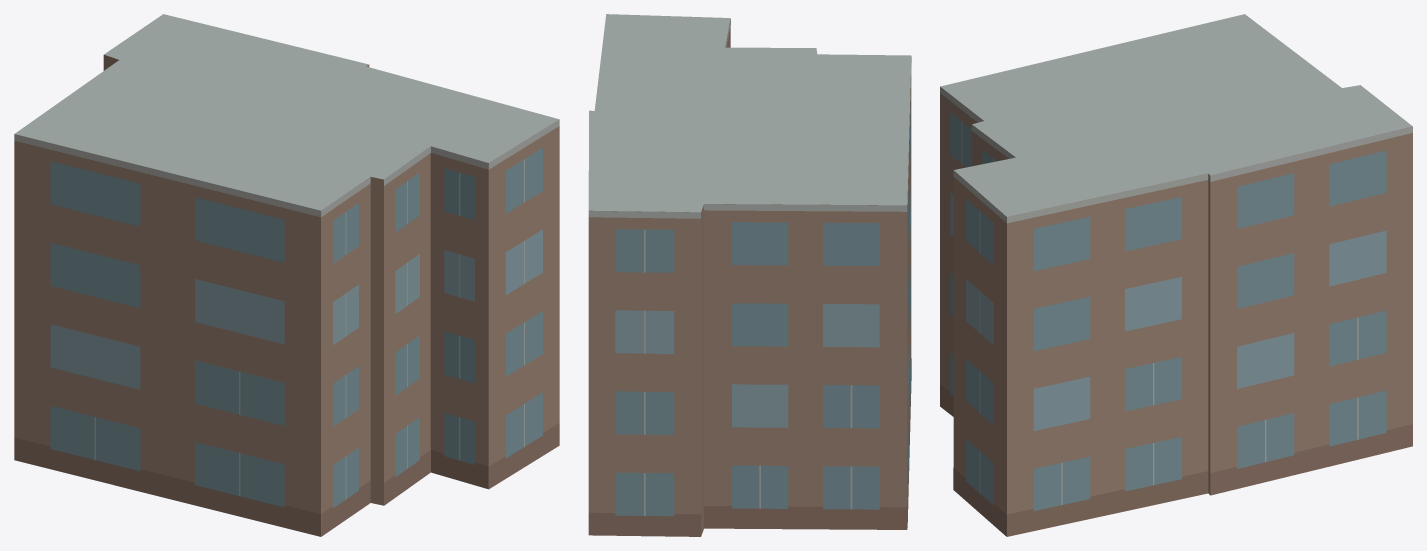
Rendered from survey-upis-33033345.glb.
The picture shows the model from 3 angles, left to right: view 1: azimuth 30°, elevation 25°; view 2: azimuth 150°, elevation 25°; view 3: azimuth 270°, elevation 25°; orthographic projection.
Visible parts, largest first — view 1: survey-upis-33033345.tmp; view 2: survey-upis-33033345.tmp; view 3: survey-upis-33033345.tmp.
Boxes of the visible parts, <box> form: survey-upis-33033345.tmp: <box>14,14,559,536</box>; survey-upis-33033345.tmp: <box>588,14,911,536</box>; survey-upis-33033345.tmp: <box>940,14,1412,536</box>.
Bounding box in the file's own units: 16.47 × 12.1 × 16.21.
